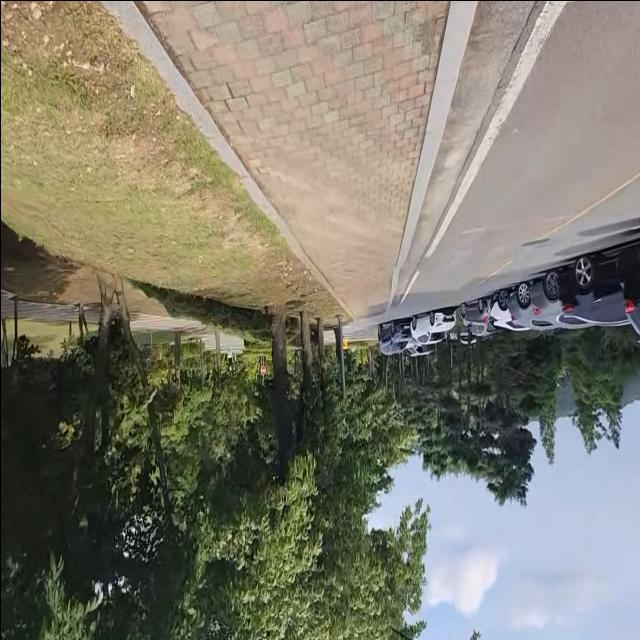obstacle: (454, 240, 632, 346), (373, 307, 457, 359), (607, 226, 640, 344)
road: (388, 0, 640, 319)
sidewalk: (101, 0, 474, 319)
